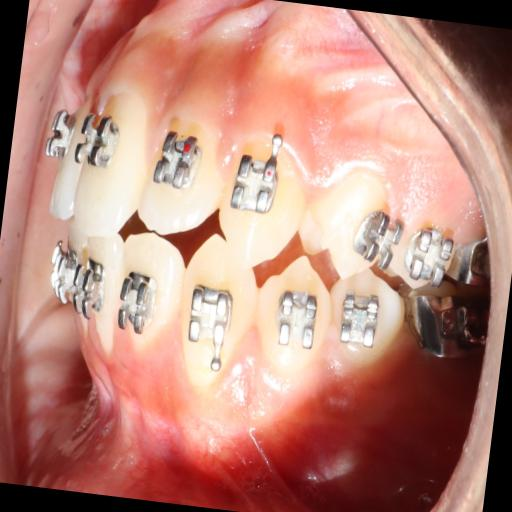correct_brace: (295, 150, 396, 290), (250, 252, 338, 380), (180, 276, 238, 366), (228, 145, 282, 221), (272, 280, 324, 358), (151, 129, 207, 196), (75, 103, 125, 173), (114, 268, 160, 340), (334, 286, 382, 351)
incorrect_brace: (140, 96, 232, 240), (108, 230, 190, 364), (352, 194, 408, 274)
